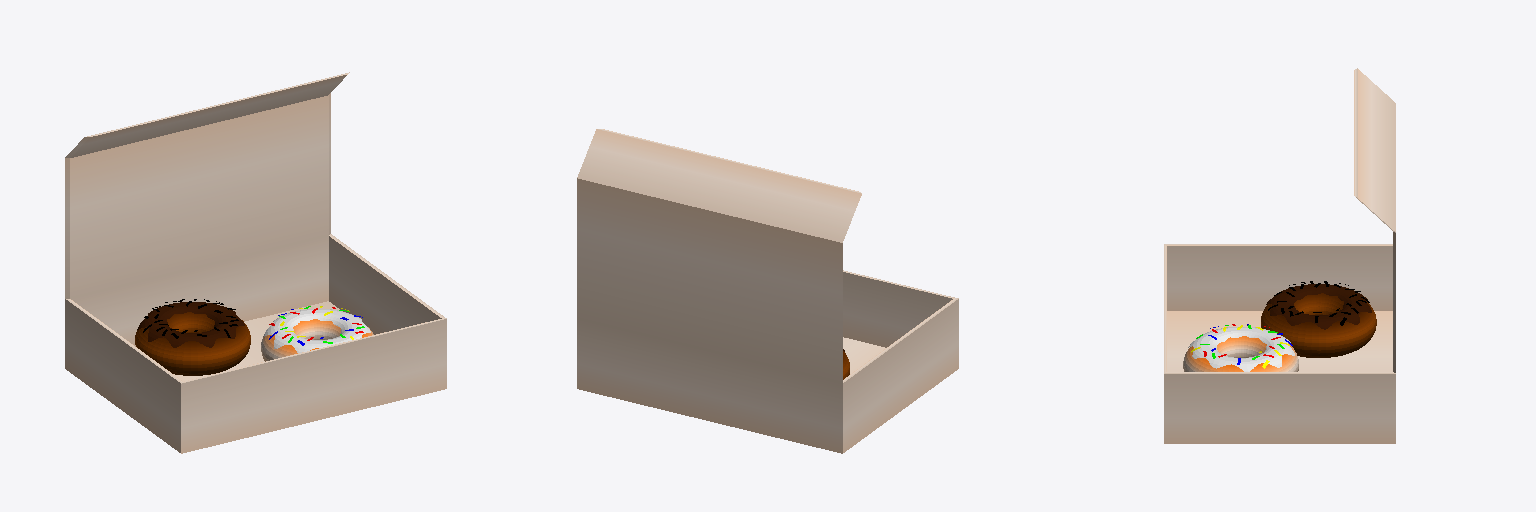
3 renders of one model, left to right at view 1: azimuth 30°, elevation 25°; view 2: azimuth 150°, elevation 25°; view 3: azimuth 270°, elevation 25°, orthographic.
Parts seen in each view (by area): view 1: box, choco_donut, choco_donut_cover, donut_cover, donut; view 2: box; view 3: box, choco_donut, choco_donut_cover, donut_cover, donut.
Part boxes in pixels (x1,y1,x2,y2): box: (65, 72, 446, 453); choco_donut: (135, 312, 250, 375); choco_donut_cover: (137, 302, 244, 347); donut_cover: (264, 309, 370, 352); donut: (261, 319, 373, 361); box: (577, 129, 958, 453); box: (1164, 68, 1395, 443); choco_donut: (1261, 293, 1376, 357); choco_donut_cover: (1266, 284, 1371, 329); donut_cover: (1188, 327, 1294, 371); donut: (1183, 336, 1298, 371).
Size of the model in its own units: 7.92 by 7 by 6.
3 materials, 2 textured.